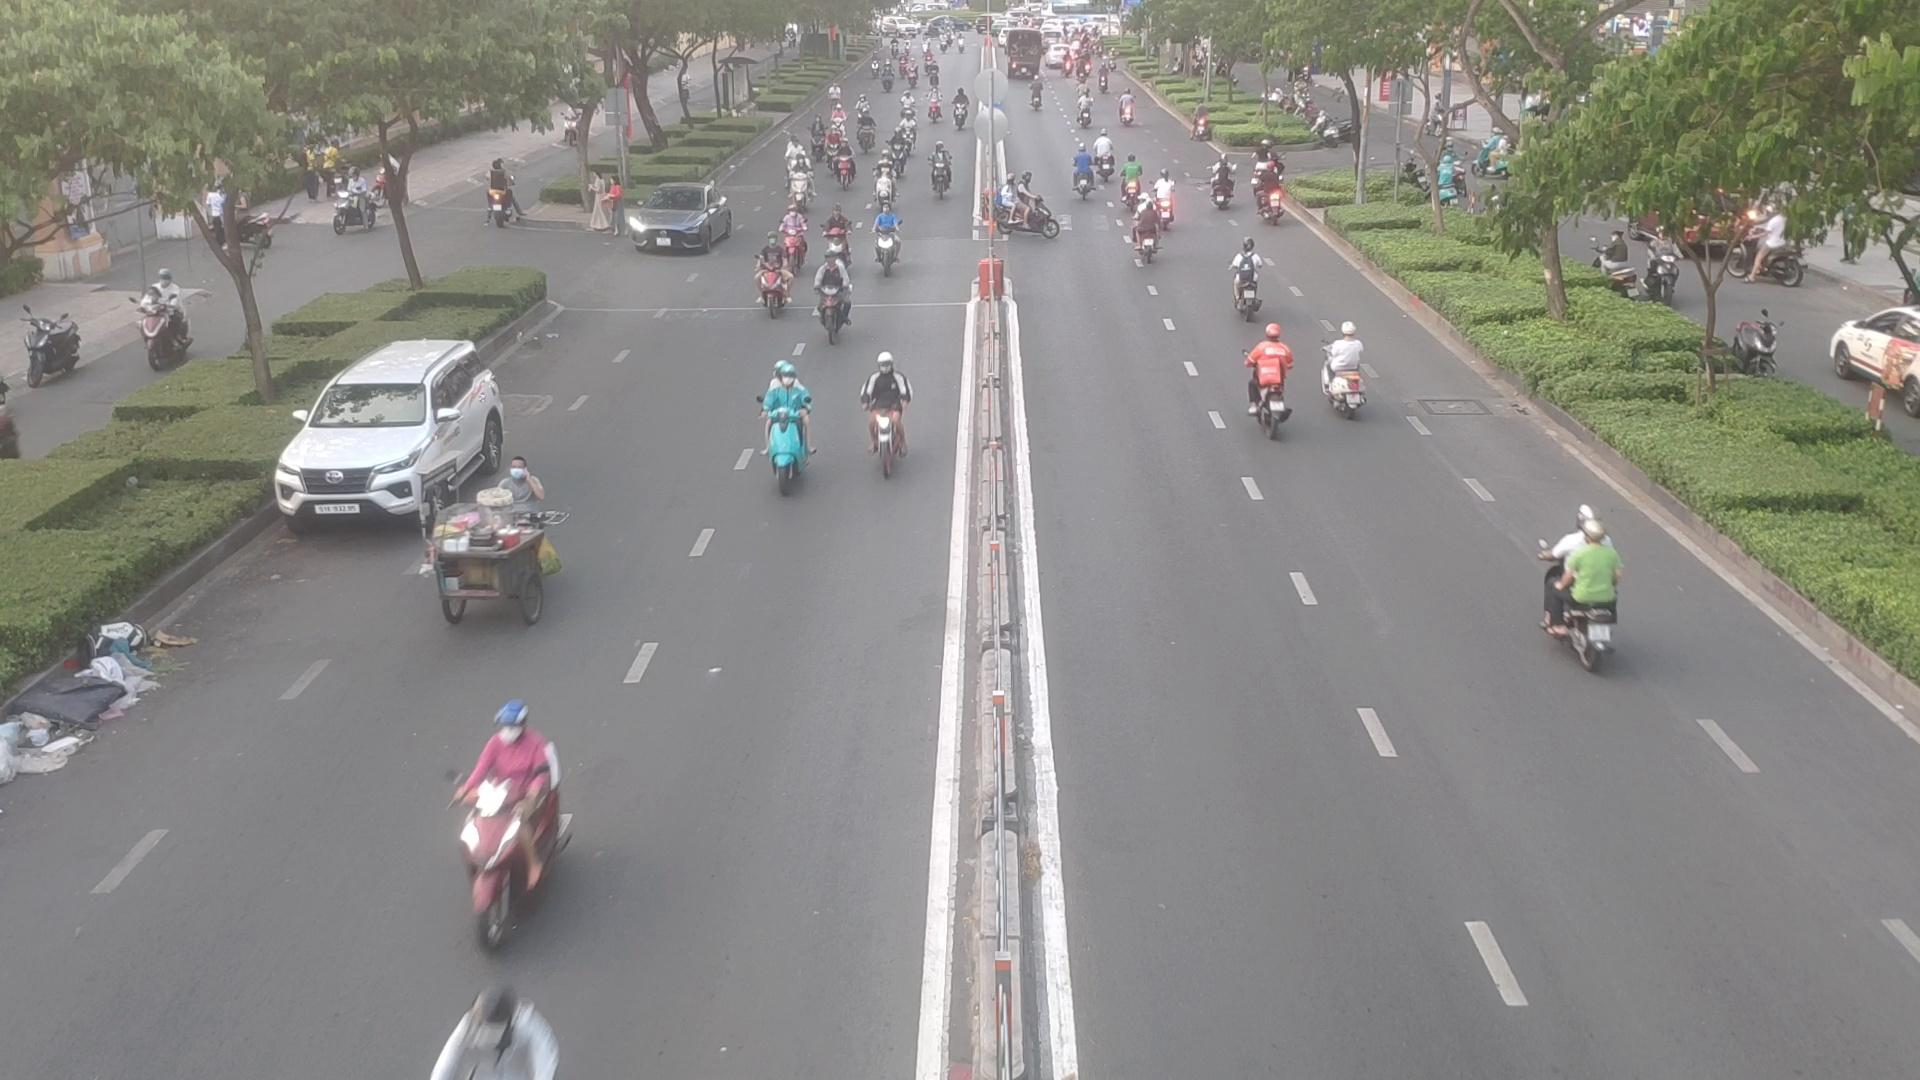car: (276, 342, 522, 525), (615, 193, 745, 257)
motorbike: (446, 711, 575, 930), (1532, 512, 1636, 682), (745, 368, 816, 495), (1241, 340, 1300, 442), (1320, 330, 1382, 426), (862, 349, 907, 473), (1004, 191, 1072, 243), (860, 208, 909, 280), (746, 247, 793, 316), (1229, 249, 1274, 320), (814, 272, 858, 338), (1147, 177, 1185, 228), (1064, 156, 1098, 200), (926, 150, 956, 198), (832, 146, 858, 189)
